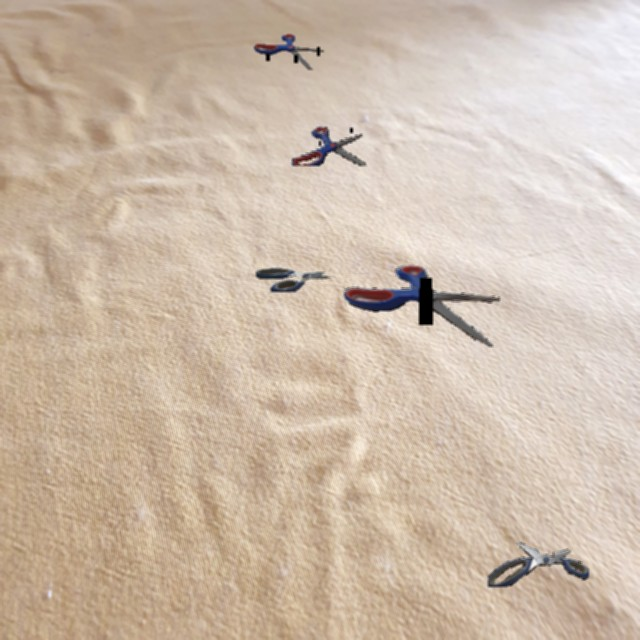scissors: (344, 265, 500, 347), (488, 542, 589, 587), (291, 126, 367, 166), (254, 34, 324, 70), (256, 268, 331, 292)
